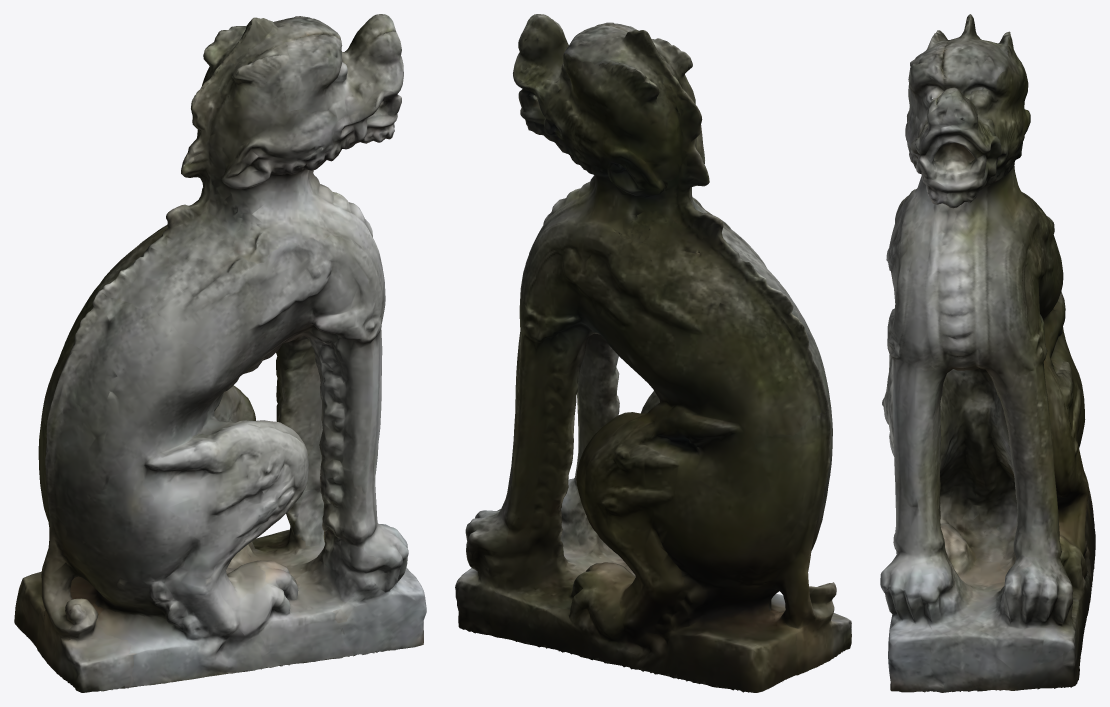
Rendered from nghe-den-vua-dinh.glb.
3 renders of one model, left to right at view 1: azimuth 30°, elevation 25°; view 2: azimuth 150°, elevation 25°; view 3: azimuth 270°, elevation 25°, orthographic. The views are drawn at different scales.
Parts seen in each view (by area): view 1: Object_4; view 2: Object_4; view 3: Object_4.
Boxes of the visible parts, x1,y1,x2,y2 form: Object_4: (14,14,426,692); Object_4: (455,14,851,692); Object_4: (880,14,1095,692).
Bounding box in the file's own units: 2.17 × 3.76 × 1.19.
1 material, 1 textured.
